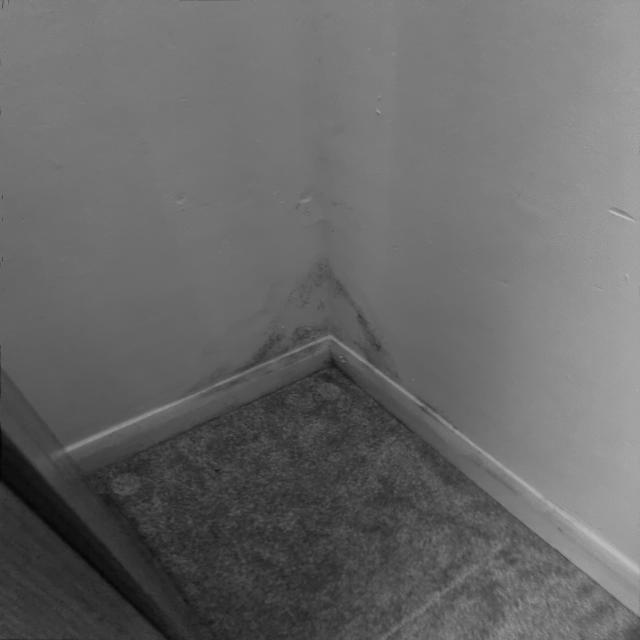stain marks: (181, 296, 276, 403), (276, 248, 337, 371), (338, 271, 400, 379)
